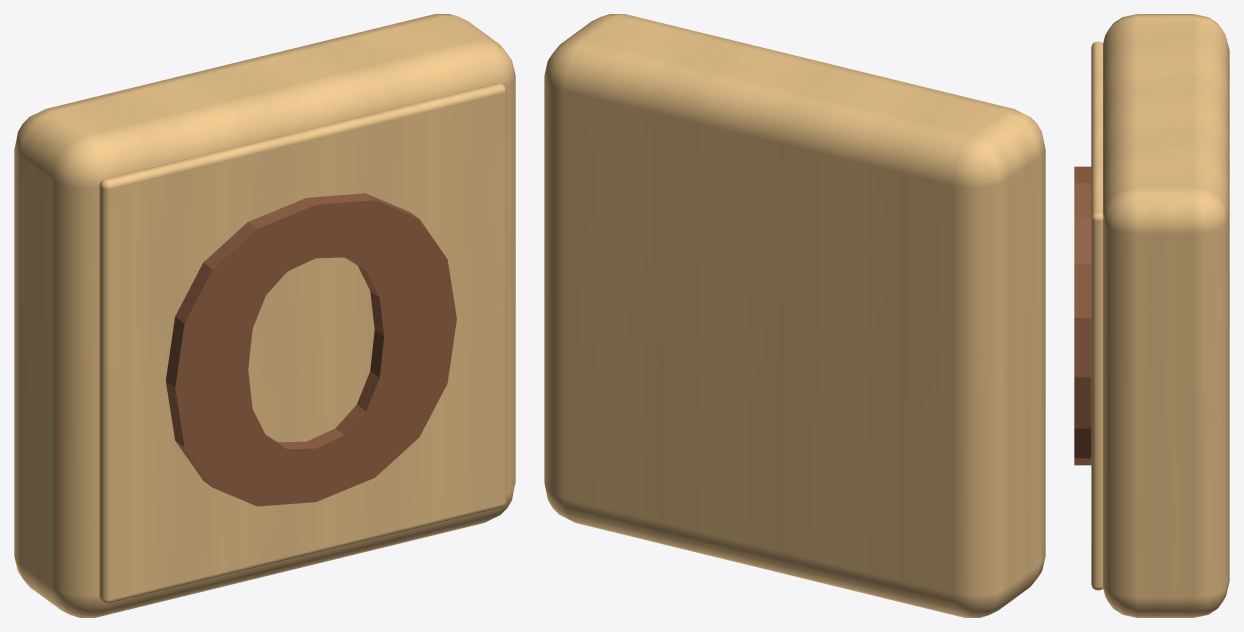
3 renders of one model, left to right at view 1: azimuth 30°, elevation 25°; view 2: azimuth 150°, elevation 25°; view 3: azimuth 270°, elevation 25°, orthographic. The views are drawn at different scales.
Visible parts, largest first — view 1: Tile_O; view 2: Tile_O; view 3: Tile_O.
Boxes of the visible parts, x1,y1,x2,y2 form: Tile_O: [14, 14, 515, 617]; Tile_O: [544, 14, 1045, 617]; Tile_O: [1074, 14, 1229, 617].
Size of the model in its own units: 0.21 by 0.21 by 0.069.
Materials: 2 (1 with a texture image).
